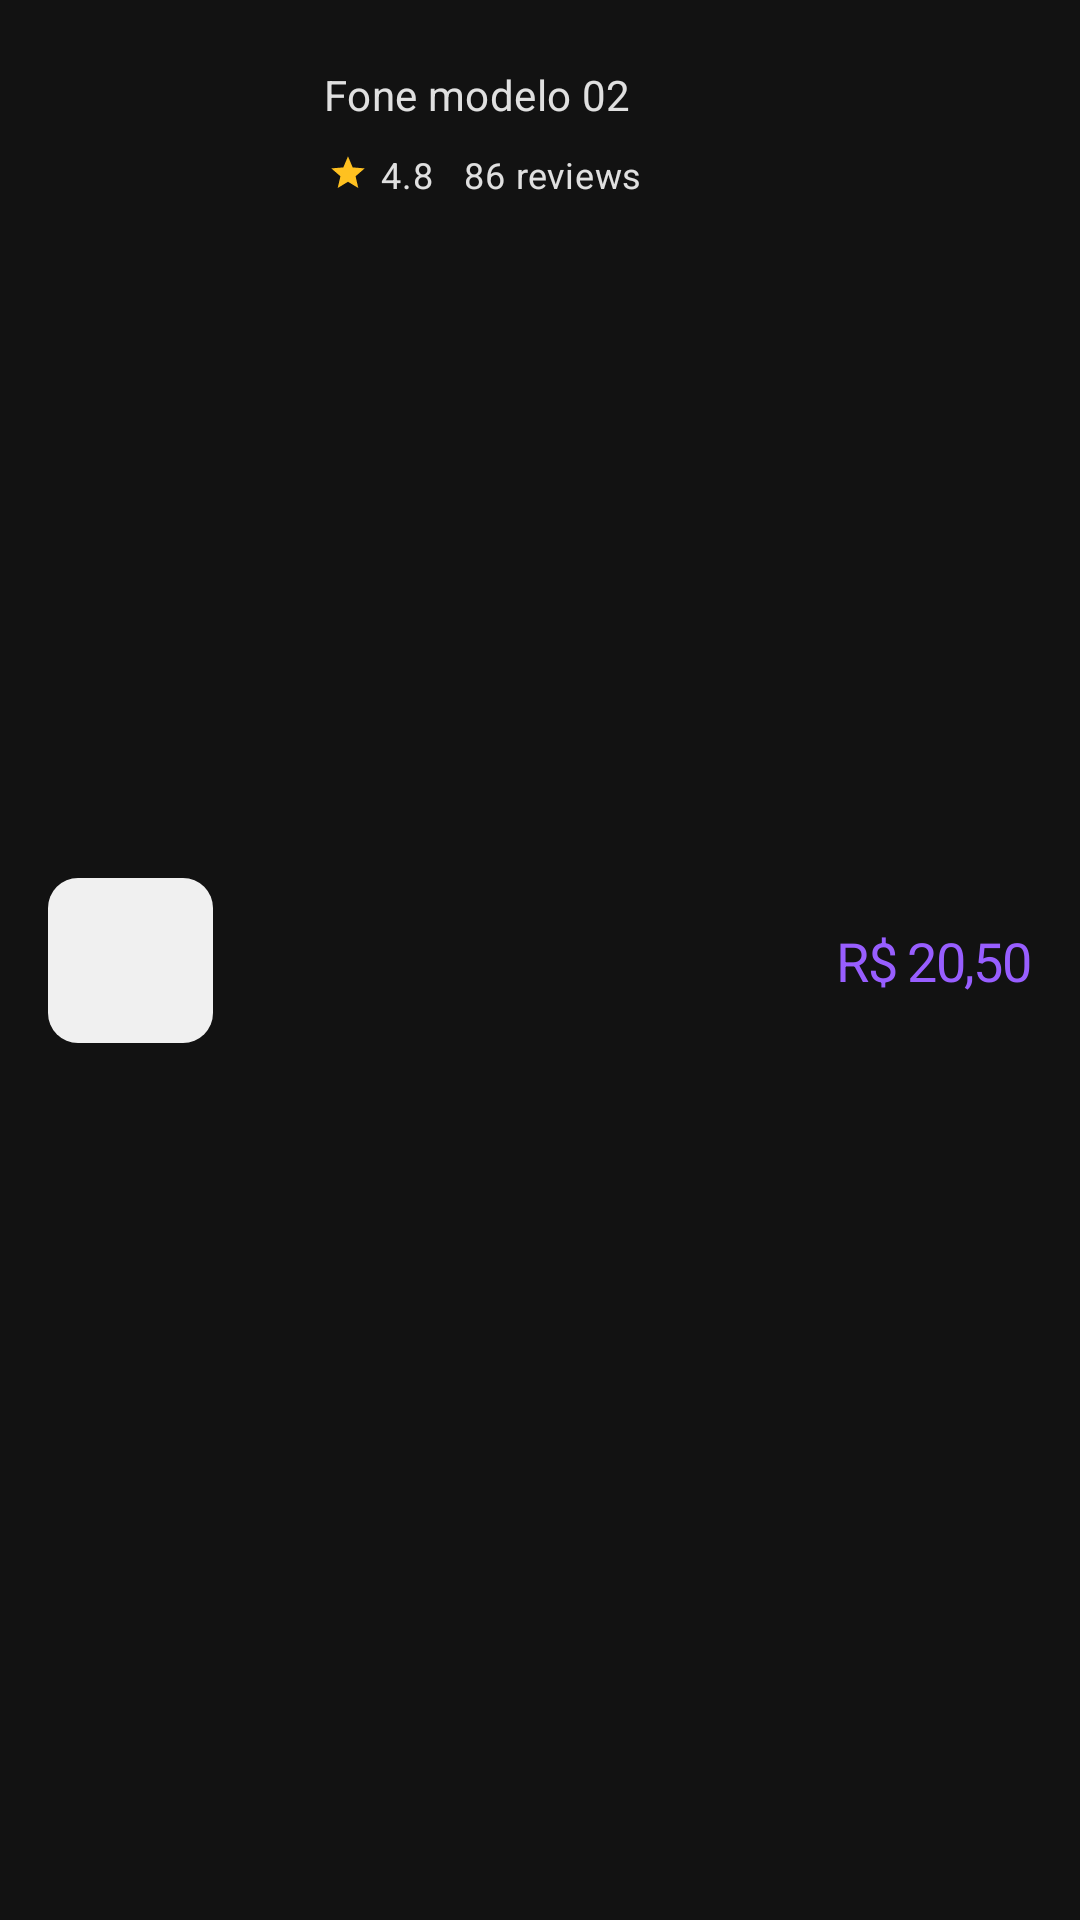

Named icons in this screenshot (1080x1920) and their centers, (x=x, y=y):
star: (x=348, y=172)
